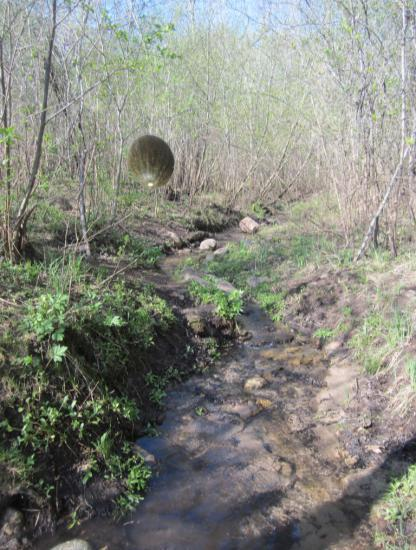Melon: (124, 135, 178, 189)
